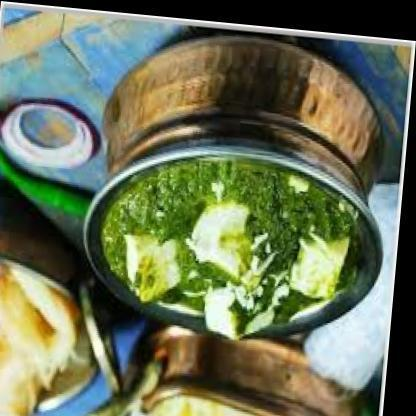palak_paneer: (98, 145, 368, 342)
